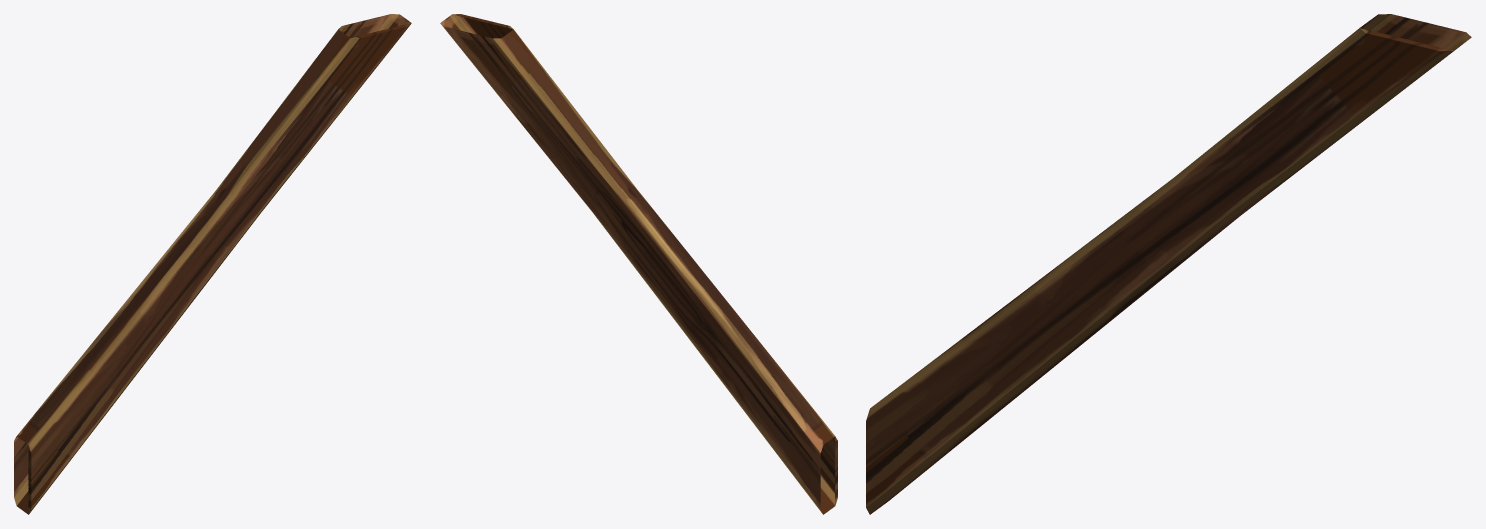
Rendered from Wall_OBeam2_Tavern_AB.fbx.
3 views of the same model, side by side, from view 1: azimuth 30°, elevation 25°; view 2: azimuth 150°, elevation 25°; view 3: azimuth 330°, elevation 25° (orthographic). The views are drawn at different scales.
Parts seen in each view (by area): view 1: polySurface844; view 2: polySurface844; view 3: polySurface844.
Part boxes in pixels (x1,y1,x2,y2): polySurface844: (14,14,411,514); polySurface844: (440,14,837,514); polySurface844: (866,14,1471,514).
Size of the model in its own units: 228 by 227 by 17.65.
